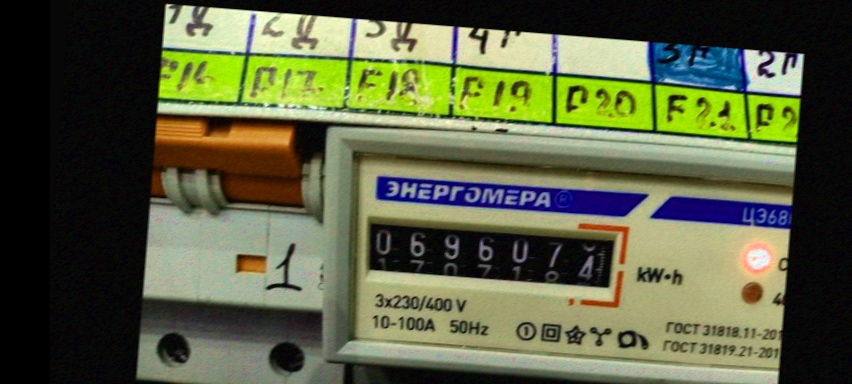0: (374, 224, 395, 255), (510, 234, 531, 263)
4: (577, 251, 597, 281)
6: (477, 232, 497, 261), (408, 228, 428, 256)
7: (545, 237, 566, 268)
9: (442, 231, 462, 260)
screen: (351, 200, 635, 308)
